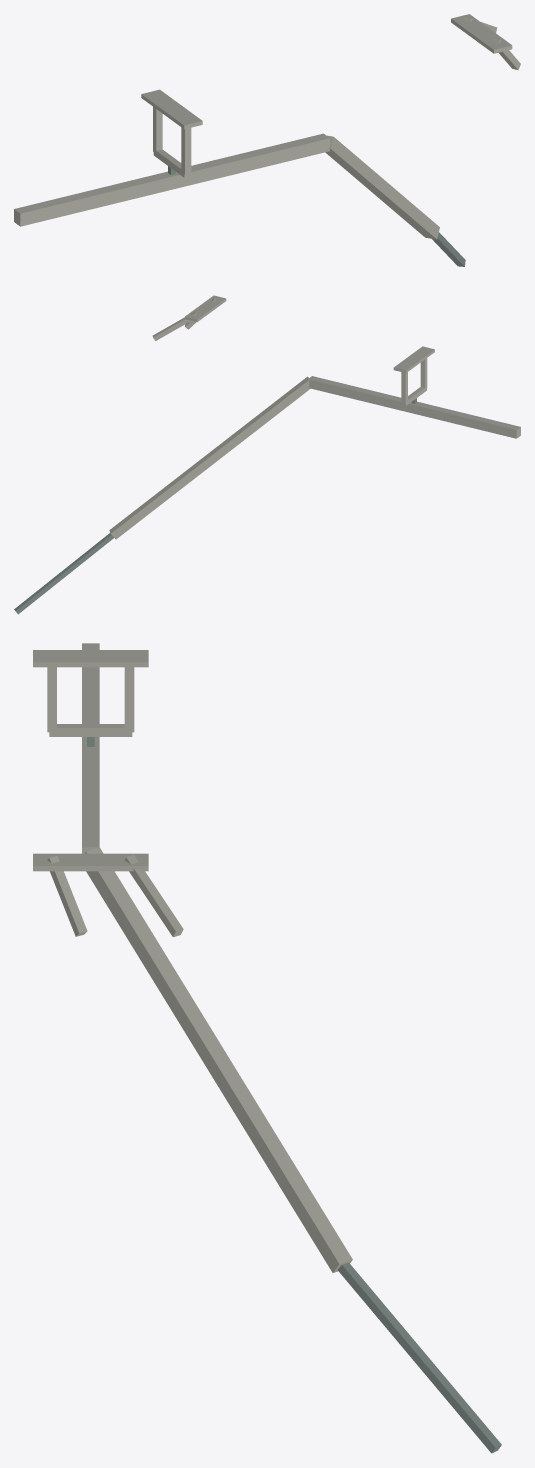
Rendered from SM_CatenariaLosa_v4_Arrancada_LOD0.fbx.
3 renders of one model, top to bottom at view 1: azimuth 30°, elevation 25°; view 2: azimuth 150°, elevation 25°; view 3: azimuth 270°, elevation 25°, orthographic. The views are drawn at different scales.
Visible parts, largest first — view 1: SM_catenaria_losa_v4_LOD0; view 2: SM_catenaria_losa_v4_LOD0; view 3: SM_catenaria_losa_v4_LOD0.
Boxes of the visible parts, x1,y1,x2,y2 form: SM_catenaria_losa_v4_LOD0: [14, 14, 520, 266]; SM_catenaria_losa_v4_LOD0: [14, 295, 520, 614]; SM_catenaria_losa_v4_LOD0: [33, 643, 501, 1453].
Bounding box in the file's own units: 9.66 × 5.85 × 4.86.
